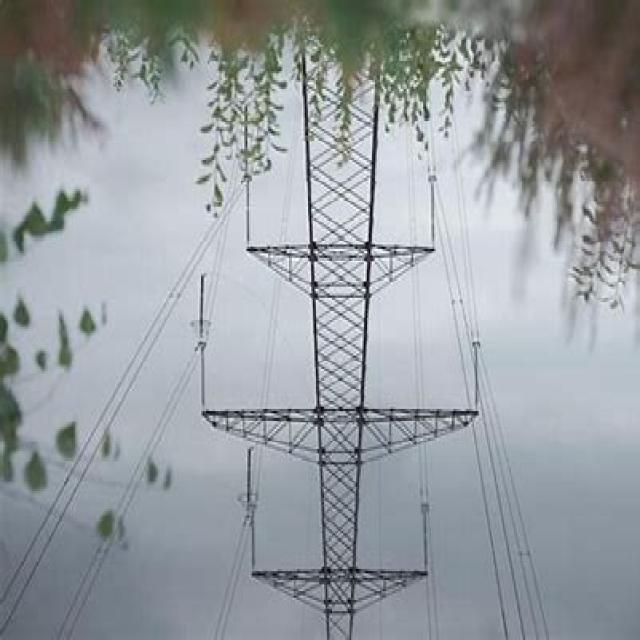utility poles: (182, 17, 495, 296)
